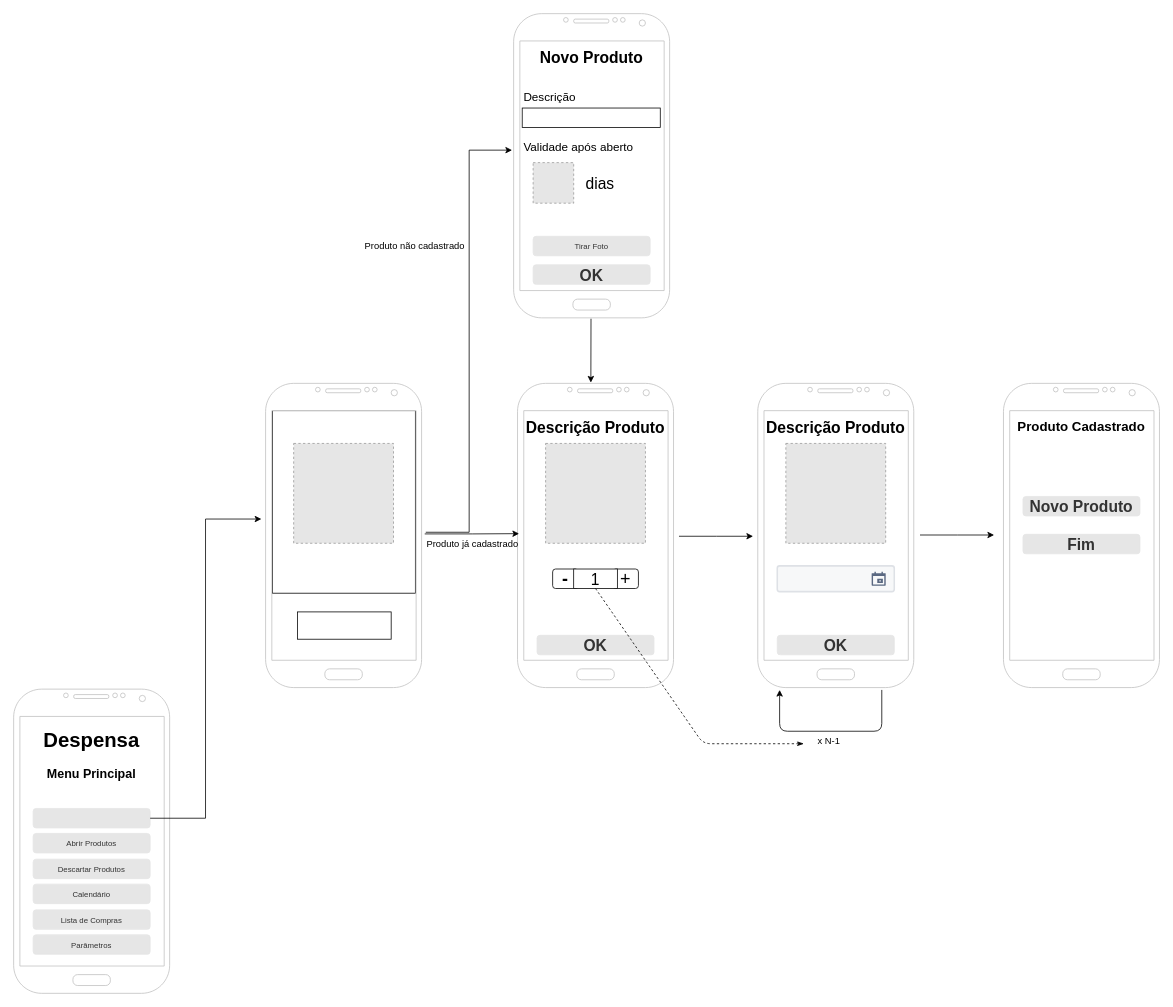
This 1173x1007 diagram has some shape labels left out. Grey dashed boxes stand in for pictures. The centre of each missing label's shape, as x and y in pixels:
"Barcode Input" goes at (x=344, y=625).
"expiration date" goes at (x=835, y=578).
"Inserir Produtos" goes at (x=91, y=818).
